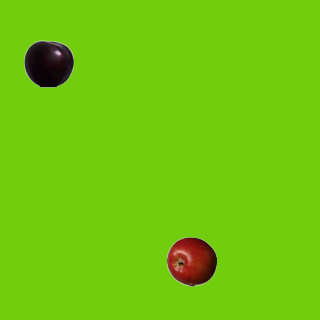Apple Braeburn: (166, 236, 216, 286)
Cherry Wax Black: (23, 38, 73, 88)
